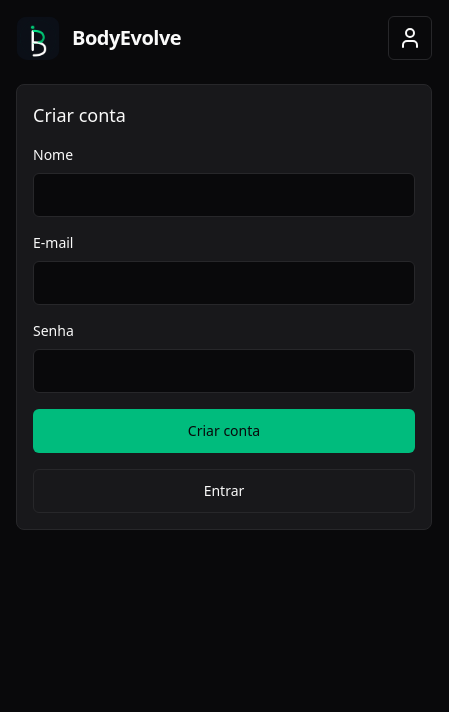
cria a conta com nome, e-mail e senha
The width and height of the screenshot is (449, 712).
In the field labelled "Nome": (224, 195) x1=33 y1=173 x2=415 y2=217, type "Bia"
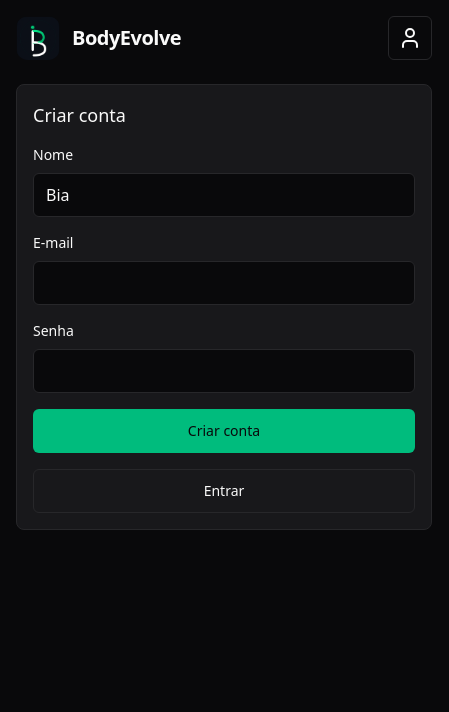
In the field labelled "E-mail": (224, 283) x1=33 y1=261 x2=415 y2=305, type "bia@example.com"
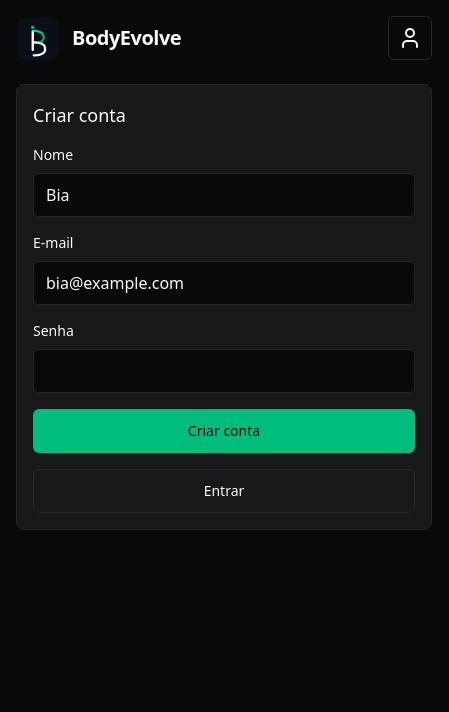
In the password field labelled "Senha": (224, 371) x1=33 y1=349 x2=415 y2=393, type "outra-senha"
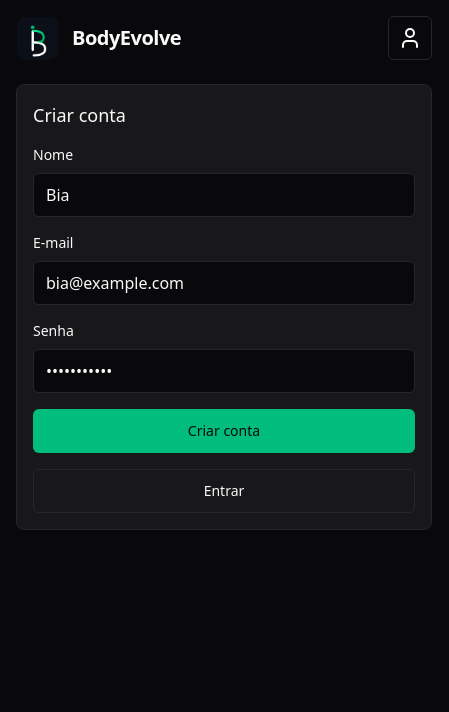
Submit the form "Criar conta", box x1=33 y1=101 x2=415 y2=513
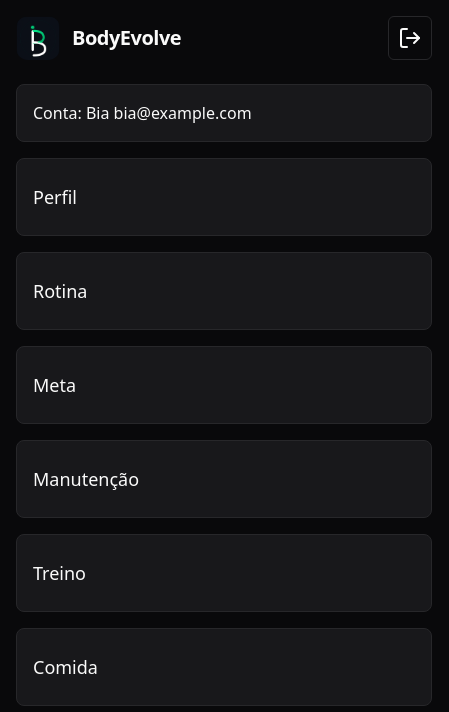
expect the text "bia@example.com" is shown: met, box x1=114 y1=102 x2=252 y2=124
